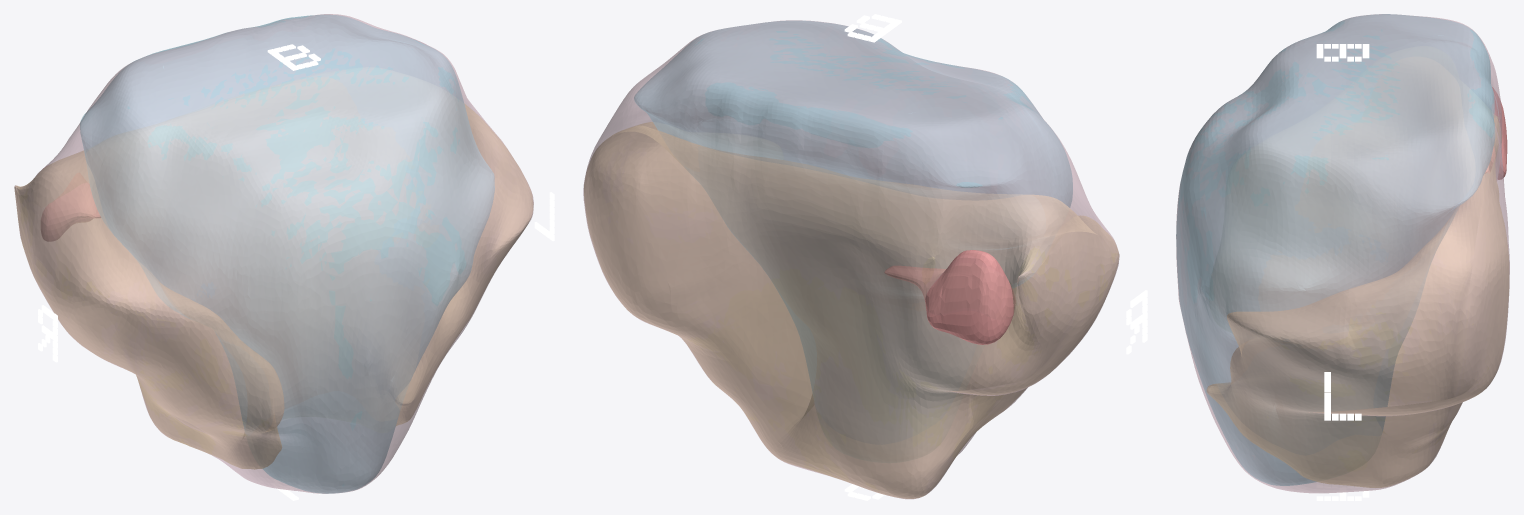
The picture shows the model from 3 angles, left to right: view 1: azimuth 30°, elevation 25°; view 2: azimuth 150°, elevation 25°; view 3: azimuth 270°, elevation 25°; orthographic projection. The views are drawn at different scales.
Parts seen in each view (by area): view 1: prostate_gland, transition_zone, peripheral_zone, lesion_01, pv_ar_marker_B, pv_ar_marker_R; view 2: prostate_gland, peripheral_zone, transition_zone, lesion_01, pv_ar_marker_B, pv_ar_marker_R; view 3: prostate_gland, transition_zone, peripheral_zone, pv_ar_marker_B, lesion_01, pv_ar_marker_L, pv_ar_marker_A.
Boxes of the visible parts, x1,y1,x2,y2 form: prostate_gland: [14, 14, 533, 493]; transition_zone: [80, 15, 494, 493]; peripheral_zone: [14, 104, 533, 469]; lesion_01: [41, 166, 100, 241]; pv_ar_marker_B: [267, 44, 320, 70]; pv_ar_marker_R: [38, 305, 57, 362]; prostate_gland: [583, 20, 1119, 499]; peripheral_zone: [584, 122, 1118, 498]; transition_zone: [634, 21, 1072, 400]; lesion_01: [884, 250, 1015, 344]; pv_ar_marker_B: [844, 14, 901, 42]; pv_ar_marker_R: [1126, 290, 1147, 354]; prostate_gland: [1176, 14, 1509, 493]; transition_zone: [1176, 14, 1494, 485]; peripheral_zone: [1207, 115, 1509, 487]; pv_ar_marker_B: [1316, 44, 1369, 61]; lesion_01: [1485, 87, 1507, 179]; pv_ar_marker_L: [1324, 372, 1361, 420]; pv_ar_marker_A: [1316, 483, 1369, 500].
Bounding box in the file's own units: 0.0515 × 0.0426 × 0.0292.
